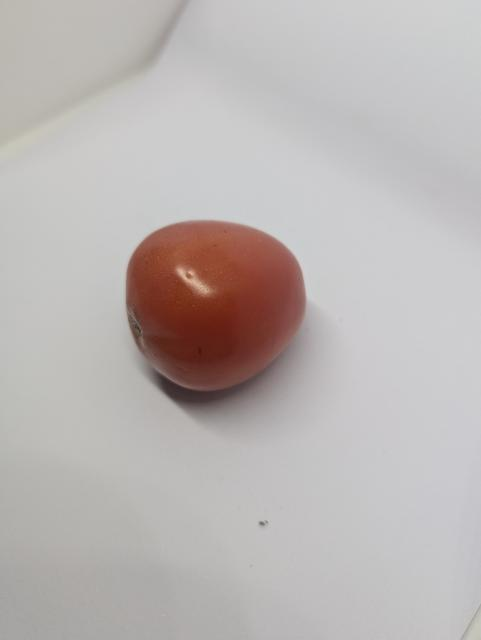red: (122, 213, 319, 396)
